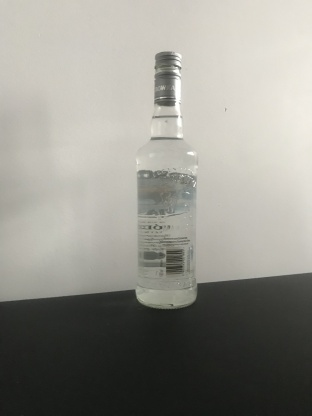nakretka: (152, 50, 183, 106)
